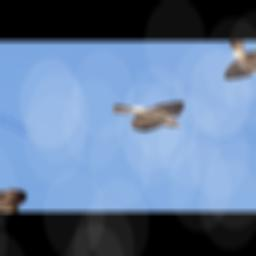Swallow: (101, 84, 207, 142)
